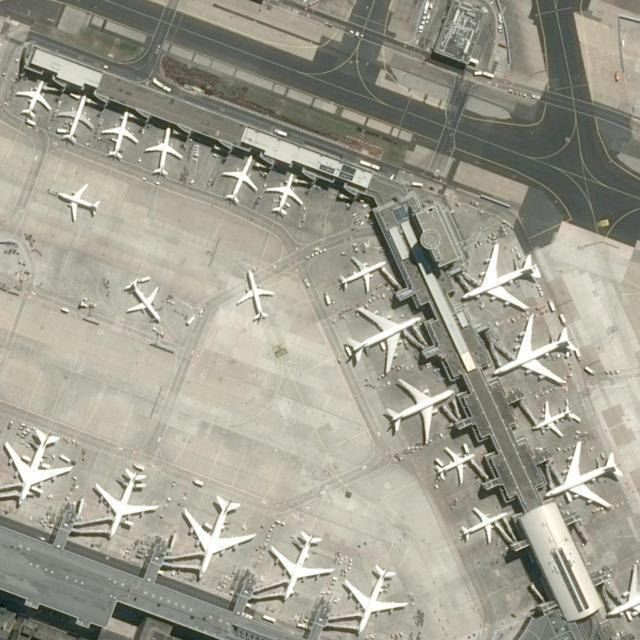Aircraft: (484, 315, 582, 389), (0, 425, 76, 513), (179, 493, 253, 583), (455, 244, 541, 317), (344, 296, 424, 372), (539, 443, 621, 513), (339, 557, 405, 636), (93, 464, 156, 545), (381, 374, 453, 444), (263, 530, 330, 604), (123, 276, 170, 332), (334, 251, 390, 295), (216, 156, 258, 214), (427, 444, 483, 487), (459, 506, 515, 549), (237, 269, 275, 329), (531, 398, 585, 439), (605, 565, 639, 629), (146, 126, 186, 180), (57, 95, 98, 146), (264, 175, 307, 222), (53, 183, 101, 223), (101, 106, 141, 152), (17, 78, 52, 125)
